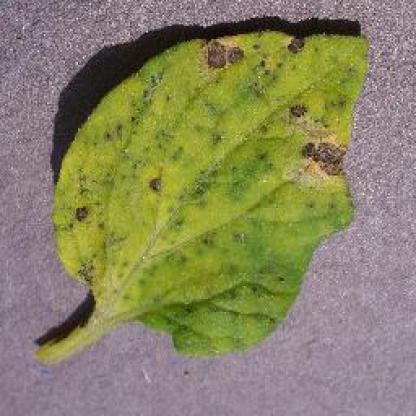bad leaf: (35, 30, 385, 372)
